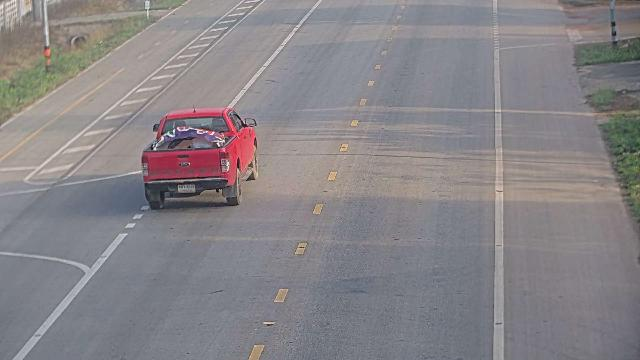pickup-truck: (140, 104, 259, 210)
